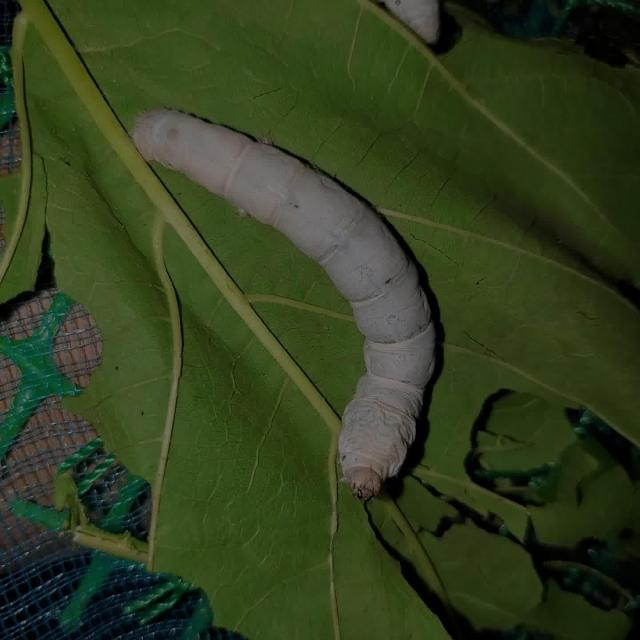Healthy: (111, 78, 469, 510)
